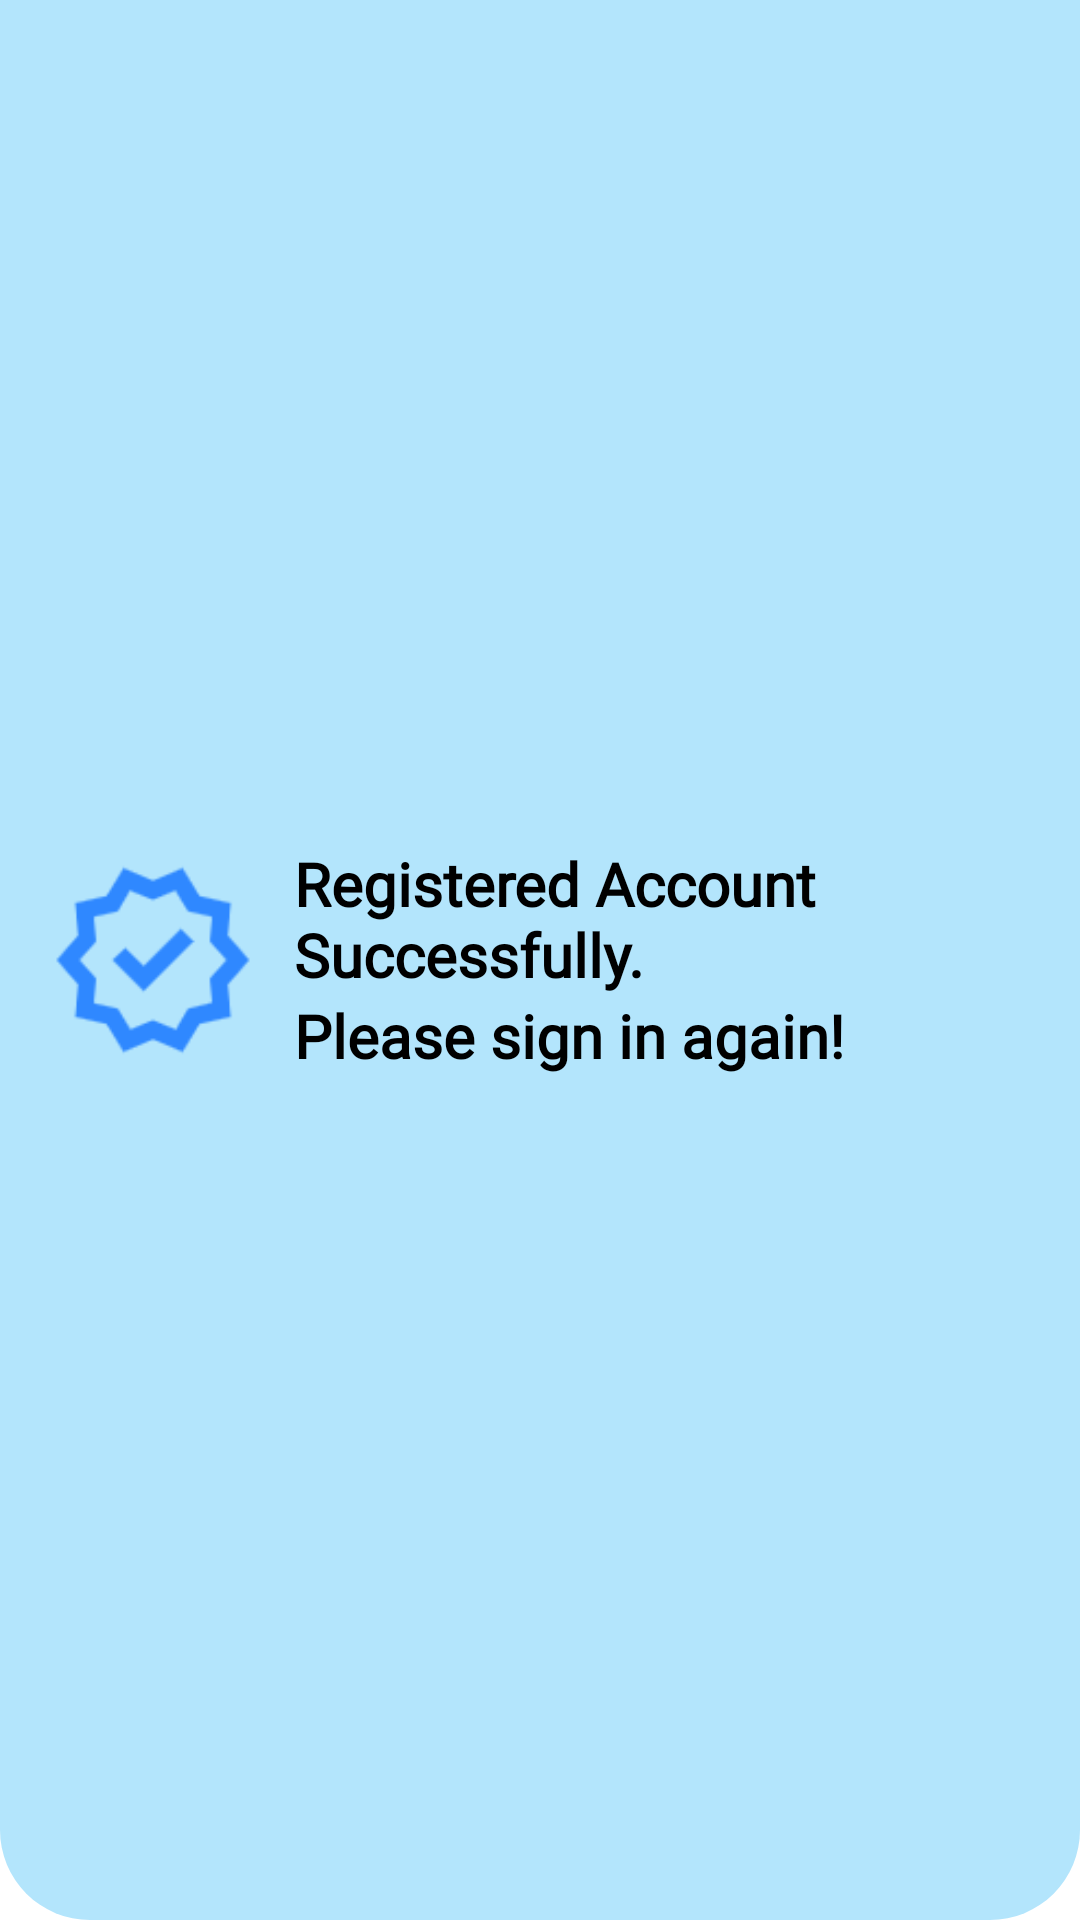

Where icons sit on this 1080*1920 app screen, as (x1, y1, x2, y2):
verified: (56, 867, 250, 1053)
